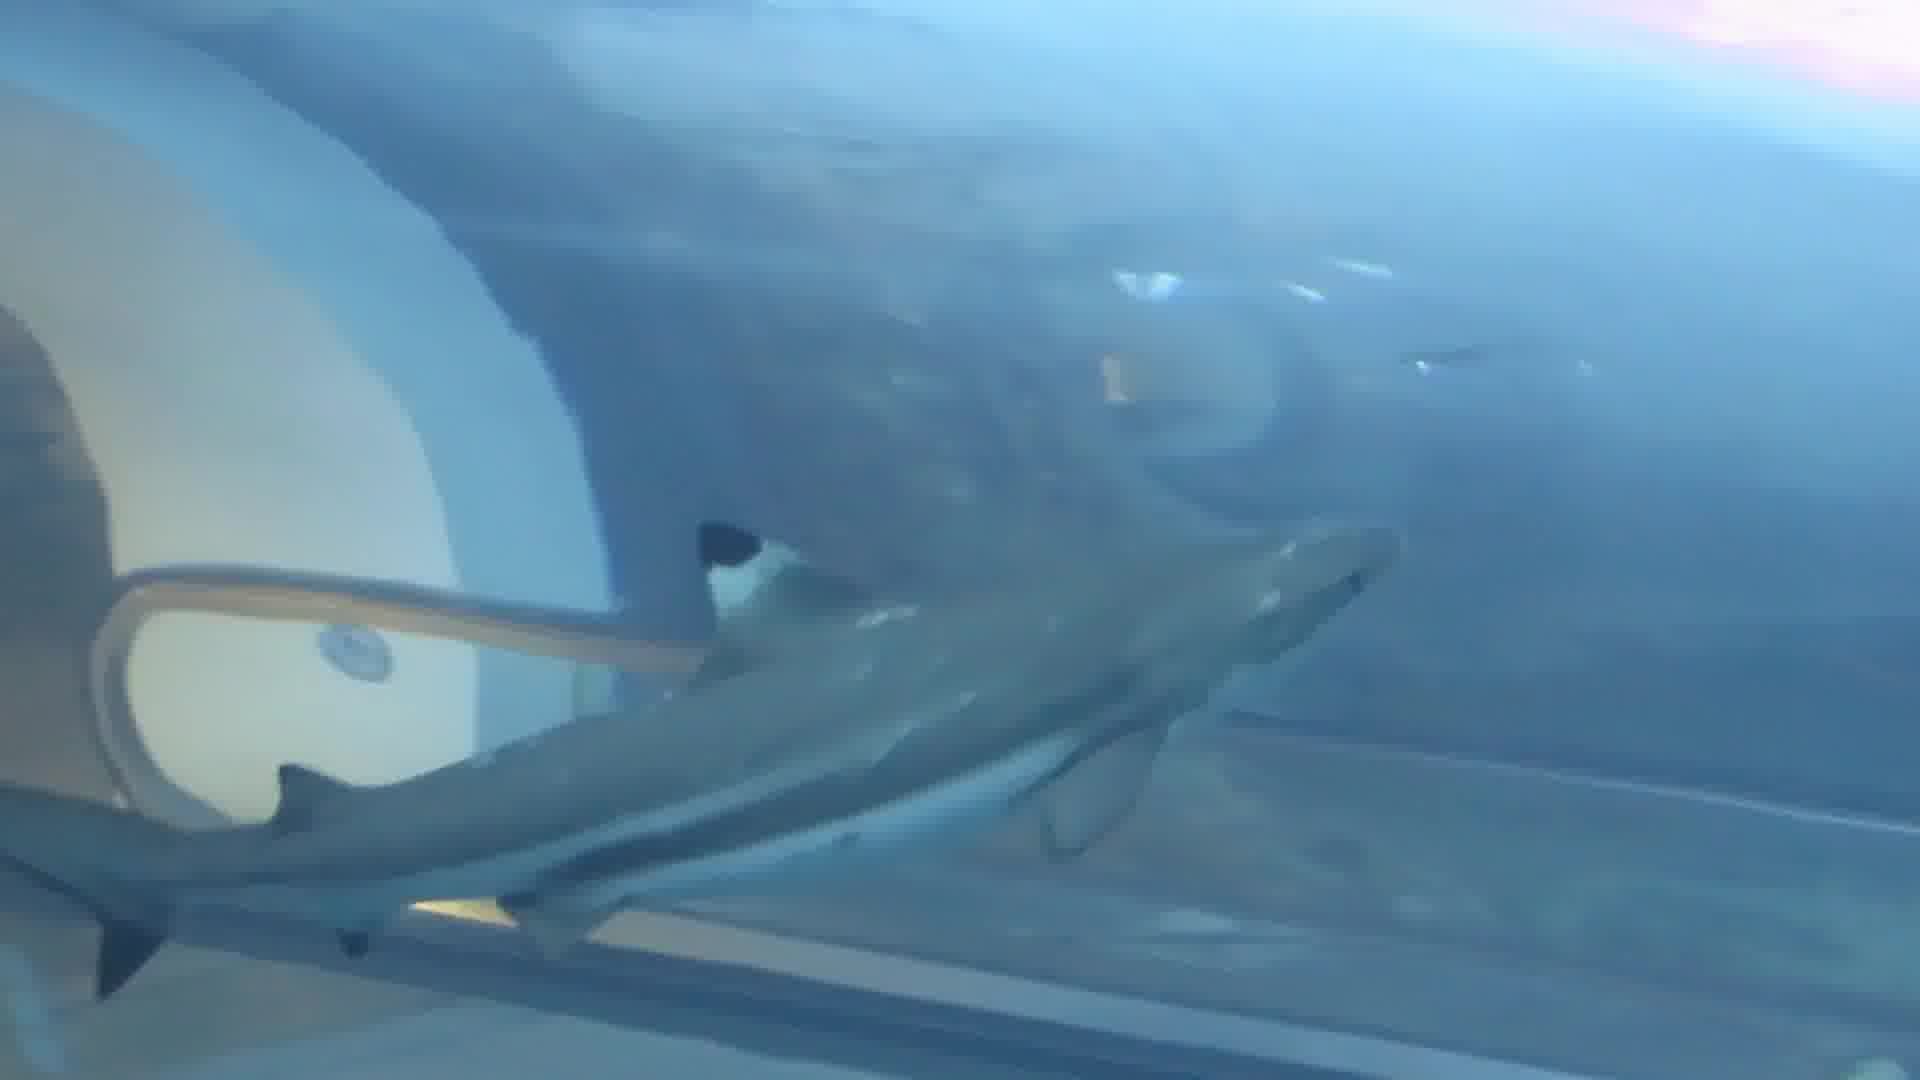Carcharhinus melanopterus: (11, 493, 1456, 985)
